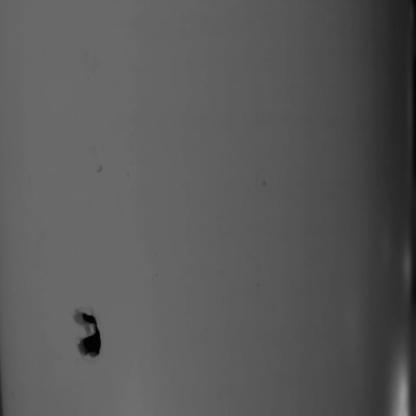kongdong: (71, 307, 109, 361)
